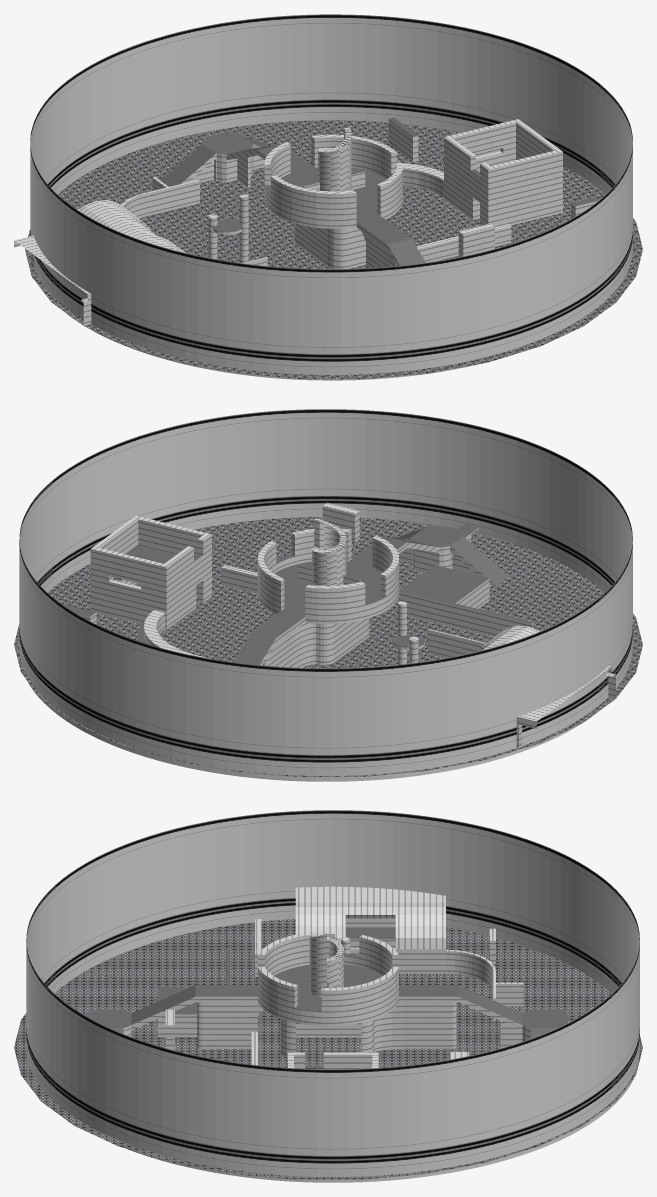
Rendered from MapUntextured.obj.
3 renders of one model, top to bottom at view 1: azimuth 30°, elevation 25°; view 2: azimuth 150°, elevation 25°; view 3: azimuth 270°, elevation 25°, orthographic.
Visible parts, largest first — view 1: worldspawn_4029; view 2: worldspawn_4029; view 3: worldspawn_4029.
Boxes of the visible parts, x1,y1,x2,y2 form: worldspawn_4029: [14, 14, 642, 380]; worldspawn_4029: [14, 409, 642, 781]; worldspawn_4029: [14, 810, 642, 1182].
Bounding box in the file's own units: 32 × 7.15 × 32.16.
